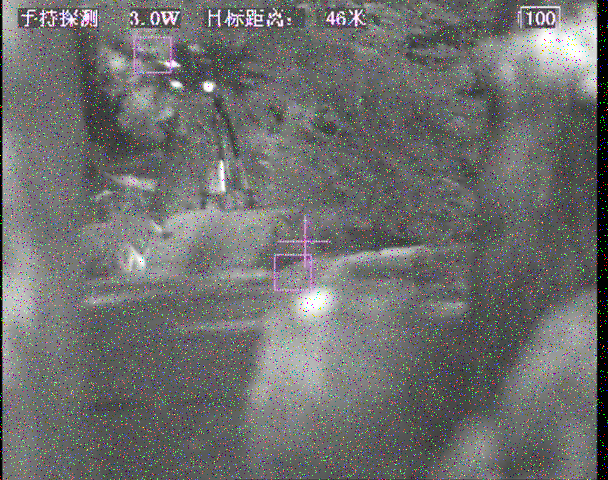my: (202, 80, 214, 93)
